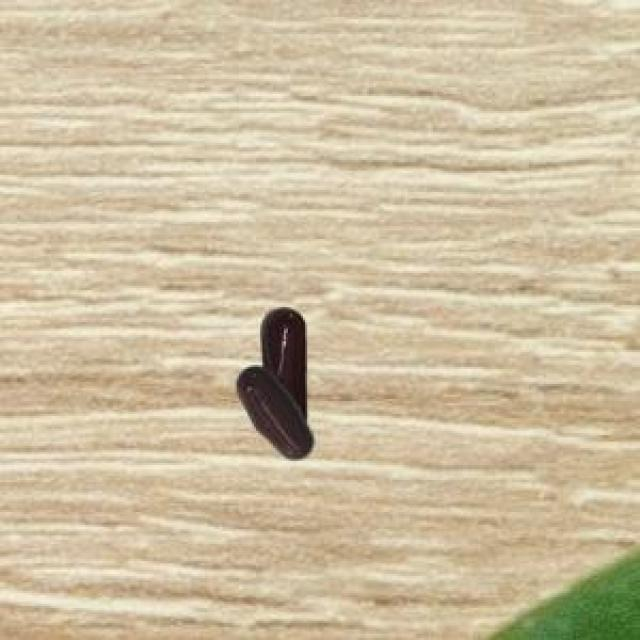DayZinc: (220, 283, 330, 476)
